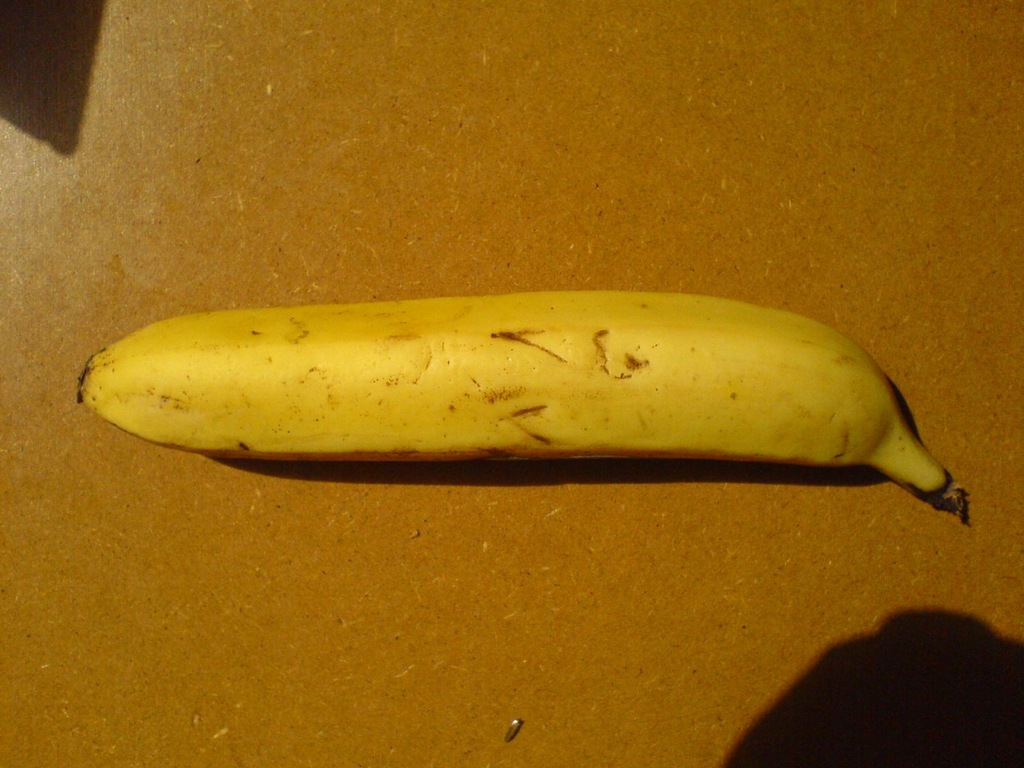Banana: (70, 289, 967, 517)
